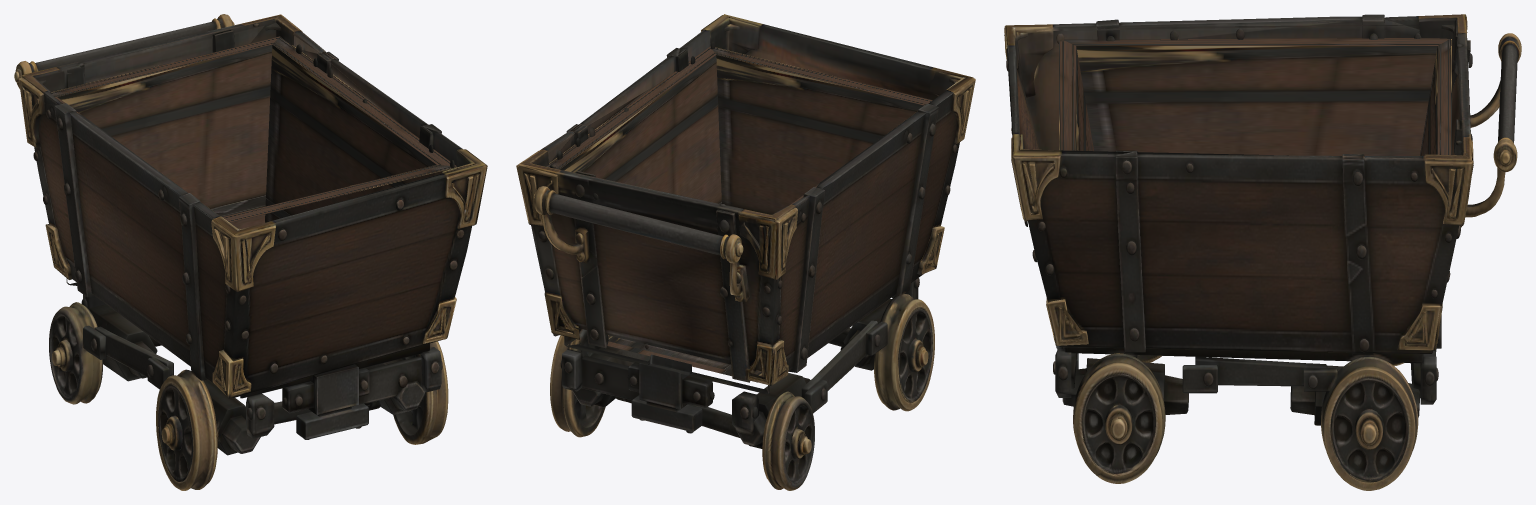
Rendered from SM_Minecart_01_Empty.glb.
3 views of the same model, side by side, from view 1: azimuth 30°, elevation 25°; view 2: azimuth 150°, elevation 25°; view 3: azimuth 270°, elevation 25° (orthographic). The views are drawn at different scales.
Parts seen in each view (by area): view 1: SM_Minecart_01_Empty; view 2: SM_Minecart_01_Empty; view 3: SM_Minecart_01_Empty.
Part boxes in pixels (x1=…): SM_Minecart_01_Empty: x1=14, y1=14, x2=487, y2=490; SM_Minecart_01_Empty: x1=516, y1=14, x2=975, y2=490; SM_Minecart_01_Empty: x1=1004, y1=14, x2=1521, y2=490.
Bounding box in the file's own units: 0.86 × 0.94 × 1.28.
1 material, 1 textured.
